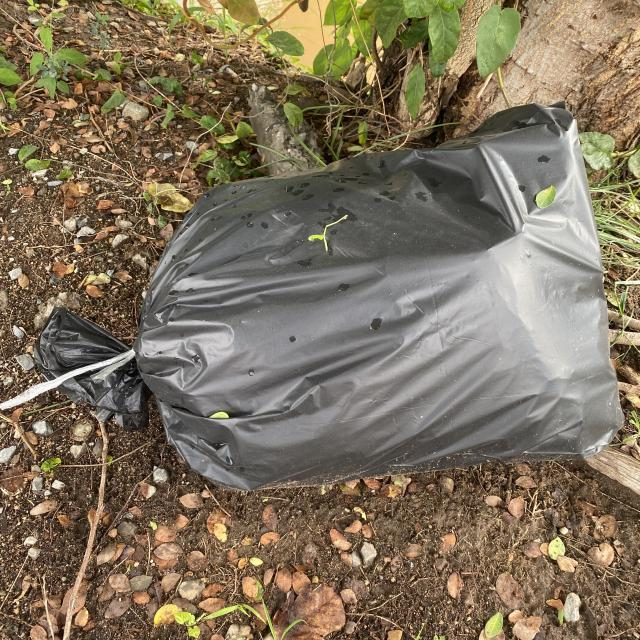Single-layer Plastic: (0, 105, 622, 490)
